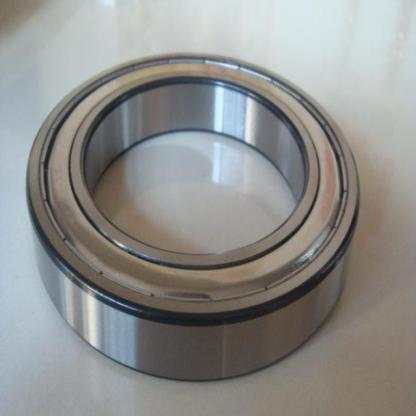FOD: (24, 45, 362, 386)
